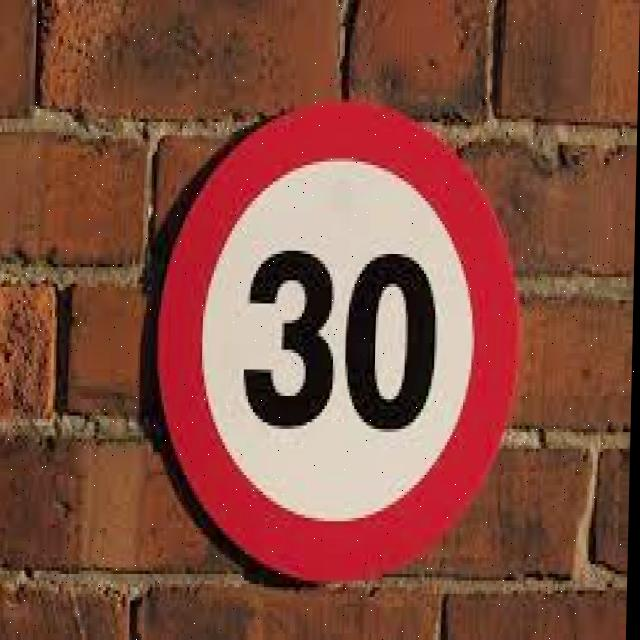Speed limit 30: (139, 97, 531, 585)
